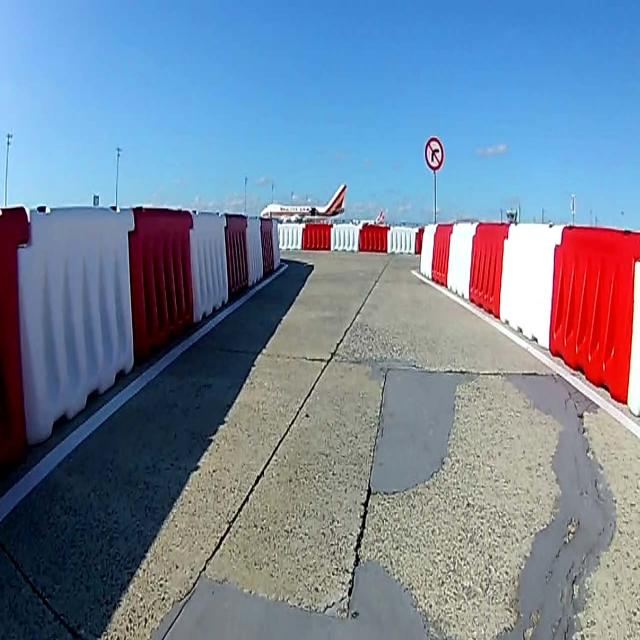sagadonulmez: (426, 138, 444, 170)
